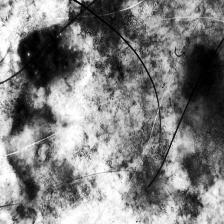Benign Marking or Mole: (68, 0, 125, 83), (18, 26, 83, 86), (180, 46, 224, 102)
